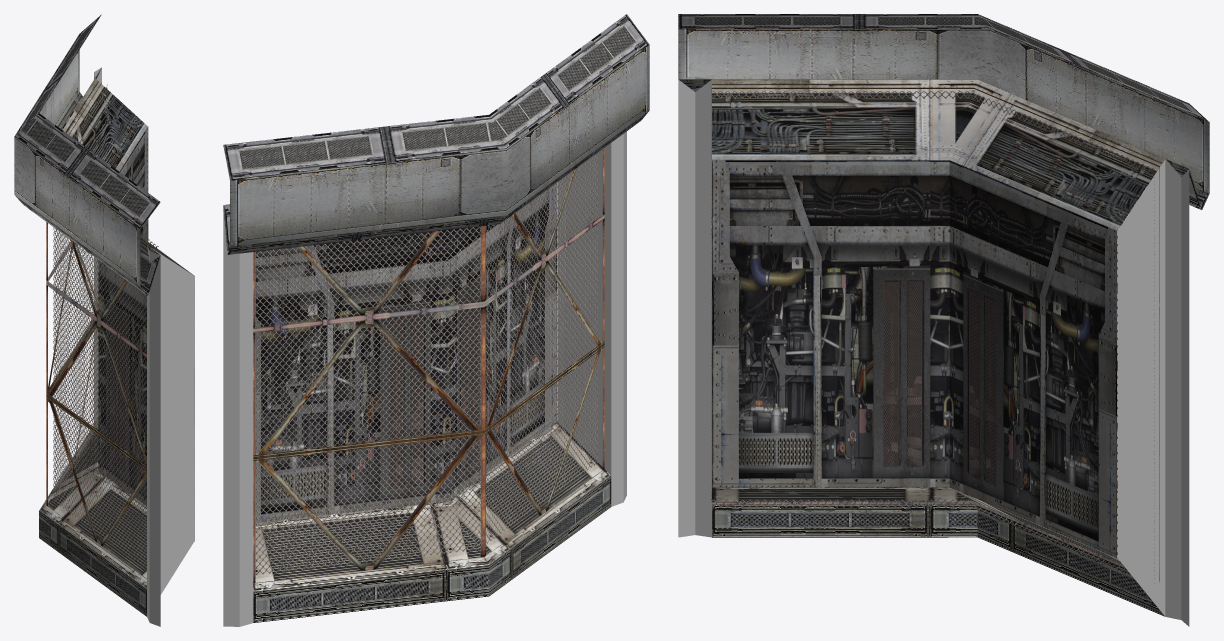
The model's file is Wall_E_Mid4mts_36.fbx.
3 views of the same model, side by side, from view 1: azimuth 30°, elevation 25°; view 2: azimuth 150°, elevation 25°; view 3: azimuth 270°, elevation 25° (orthographic). The views are drawn at different scales.
Parts seen in each view (by area): view 1: Wall_Framework, Metal Grid, Wall_E_Mid4mts_40; view 2: Wall_Framework, Metal Grid, Wall_E_Mid4mts_40; view 3: Wall_Framework, Metal Grid, Wall_E_Mid4mts_40.
Boxes of the visible parts, bbox=[...] form: Wall_Framework: bbox=[14, 14, 194, 626]; Metal Grid: bbox=[53, 84, 158, 568]; Wall_E_Mid4mts_40: bbox=[46, 83, 152, 578]; Wall_Framework: bbox=[223, 14, 649, 626]; Metal Grid: bbox=[255, 153, 598, 574]; Wall_E_Mid4mts_40: bbox=[253, 148, 604, 583]; Wall_Framework: bbox=[678, 14, 1209, 626]; Metal Grid: bbox=[711, 91, 1154, 583]; Wall_E_Mid4mts_40: bbox=[711, 87, 1159, 582].
Size of the model in its own units: 183 by 400 by 368.
